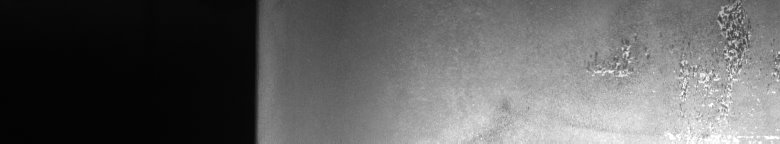hc: (586, 4, 776, 112)
